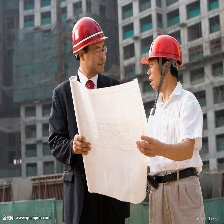helmet: (69, 17, 111, 58), (139, 33, 185, 66)
no-vest: (150, 85, 199, 174)
person: (52, 16, 119, 224), (142, 32, 206, 224)
